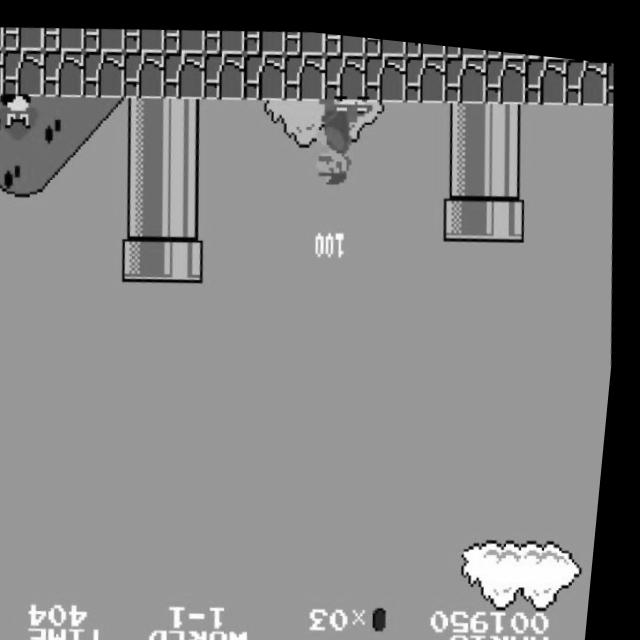0- big_mario: (311, 87, 369, 188)
14- pipe: (482, 89, 531, 142), (442, 135, 491, 188), (161, 91, 210, 144), (121, 137, 170, 190), (482, 135, 531, 187), (121, 91, 169, 144), (162, 184, 211, 235), (442, 90, 490, 142), (162, 137, 210, 189), (122, 184, 170, 235)
15- pipe_head: (443, 182, 492, 234), (122, 229, 171, 281), (163, 228, 211, 281), (483, 182, 532, 233)
17- undestructible_block: (521, 43, 570, 96), (441, 43, 490, 96), (321, 44, 370, 97), (160, 45, 209, 98), (120, 45, 169, 98), (40, 46, 89, 99), (0, 46, 49, 99), (401, 44, 450, 96), (240, 45, 289, 97), (80, 46, 129, 98), (482, 43, 530, 96), (361, 44, 409, 97), (281, 44, 329, 97), (201, 45, 249, 98), (562, 46, 610, 95), (202, 22, 247, 52), (162, 22, 207, 52), (42, 23, 87, 53), (1, 23, 46, 53), (242, 22, 287, 51), (122, 23, 167, 52), (82, 23, 127, 52), (282, 23, 327, 51), (322, 26, 367, 51), (363, 30, 407, 50), (402, 33, 446, 50), (442, 36, 486, 50), (603, 49, 617, 92), (482, 39, 526, 50), (0, 49, 8, 99), (0, 27, 6, 53)
8- goomba: (0, 88, 46, 145)
